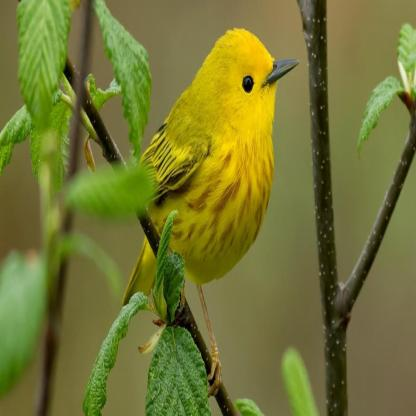other: (134, 17, 304, 283)
